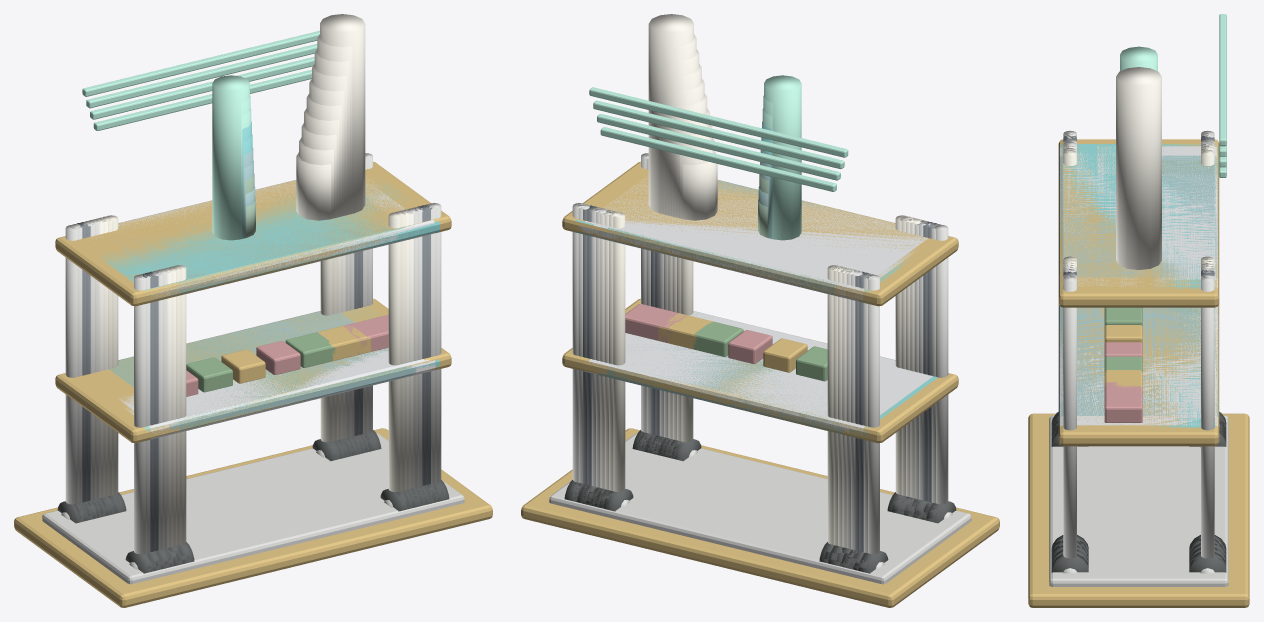
File: Gear20.fbx
3 renders of one model, left to right at view 1: azimuth 30°, elevation 25°; view 2: azimuth 150°, elevation 25°; view 3: azimuth 270°, elevation 25°, orthographic.
Visible parts, largest first — view 1: Gear20_V10_Gold, Gear20_V6_Chrome, Gear20_V10_Chrome, Gear20_V9_Gold, Gear20_V8_Aqua, Gear20_V1_Sage, Gear20_V5_Chrome, Gear20_V1_Ivory, Gear20_V10_Glow, Gear20_V2_Blue, Gear20_V4_Linen, Gear20_V9_Chrome (+28 smaller); view 2: Gear20_V10_Gold, Gear20_V10_Chrome, Gear20_V6_Platinum, Gear20_V4_Chrome, Gear20_V5_Chrome, Gear20_V9_Gold, Gear20_V1_Ivory, Gear20_V5_Platinum, Gear20_V10_Glow, Gear20_V8_Chrome, Gear20_V7_Platinum, Gear20_V6_Chrome (+27 smaller); view 3: Gear20_V10_Gold, Gear20_V10_Chrome, Gear20_V3_Blue, Gear20_V10_Linen, Gear20_V4_Platinum, Gear20_V8_Aqua, Gear20_V7_Platinum, Gear20_V9_Gold, Gear20_V2_Blue, Gear20_V9_Chrome, Gear20_V6_Chrome, Gear20_V10_Glow (+15 smaller).
Boxes of the visible parts, x1,y1,x2,y2 form: Gear20_V10_Gold: [14, 161, 492, 607]; Gear20_V6_Chrome: [83, 207, 440, 575]; Gear20_V10_Chrome: [42, 153, 464, 584]; Gear20_V9_Gold: [22, 174, 485, 601]; Gear20_V8_Aqua: [100, 176, 439, 435]; Gear20_V1_Sage: [109, 184, 406, 431]; Gear20_V5_Chrome: [89, 208, 439, 578]; Gear20_V1_Ivory: [107, 212, 401, 544]; Gear20_V10_Glow: [82, 30, 319, 240]; Gear20_V2_Blue: [114, 186, 411, 425]; Gear20_V4_Linen: [92, 108, 414, 547]; Gear20_V9_Chrome: [70, 155, 457, 582]; Gear20_V10_Gold: [521, 161, 999, 607]; Gear20_V10_Chrome: [549, 153, 971, 584]; Gear20_V6_Platinum: [583, 175, 928, 430]; Gear20_V4_Chrome: [579, 448, 921, 576]; Gear20_V5_Chrome: [575, 208, 925, 574]; Gear20_V9_Gold: [528, 167, 991, 603]; Gear20_V1_Ivory: [613, 212, 908, 544]; Gear20_V5_Platinum: [588, 228, 896, 426]; Gear20_V10_Glow: [589, 75, 848, 240]; Gear20_V8_Chrome: [560, 446, 916, 581]; Gear20_V7_Platinum: [578, 224, 932, 434]; Gear20_V6_Chrome: [570, 207, 930, 575]; Gear20_V10_Gold: [1028, 139, 1249, 607]; Gear20_V10_Chrome: [1049, 130, 1228, 586]; Gear20_V3_Blue: [1059, 155, 1217, 416]; Gear20_V10_Linen: [1116, 67, 1161, 269]; Gear20_V4_Platinum: [1058, 153, 1217, 418]; Gear20_V8_Aqua: [1058, 144, 1219, 427]; Gear20_V7_Platinum: [1058, 146, 1217, 427]; Gear20_V9_Gold: [1028, 141, 1249, 594]; Gear20_V2_Blue: [1058, 162, 1219, 417]; Gear20_V9_Chrome: [1049, 133, 1228, 578]; Gear20_V6_Chrome: [1049, 139, 1228, 570]; Gear20_V10_Glow: [1120, 14, 1226, 146].
Bounding box in the file's own units: 114 × 140 × 58.
